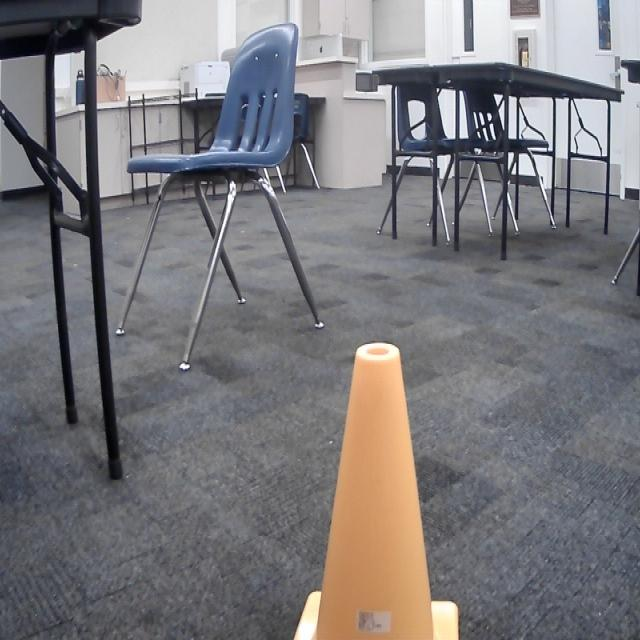cone: (290, 336, 464, 640)
